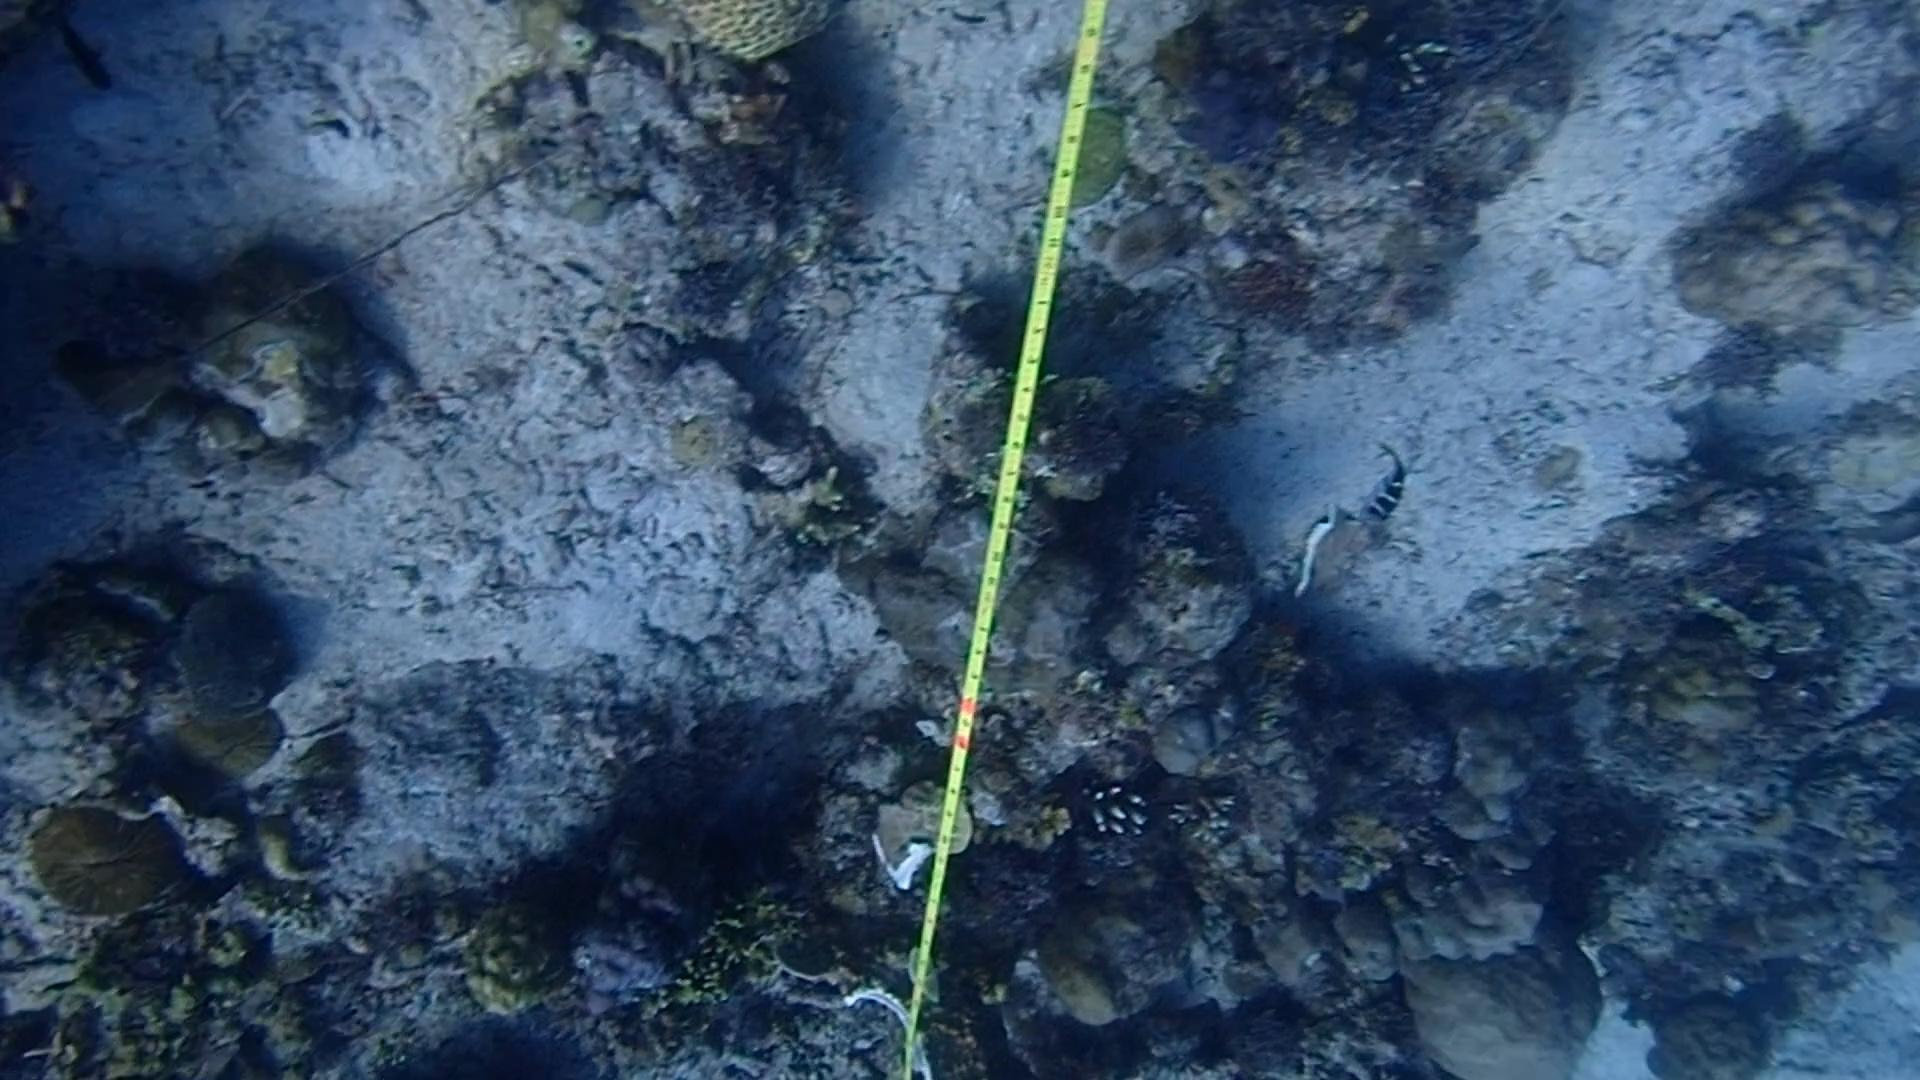Striped Fish: (1345, 444, 1431, 534)
